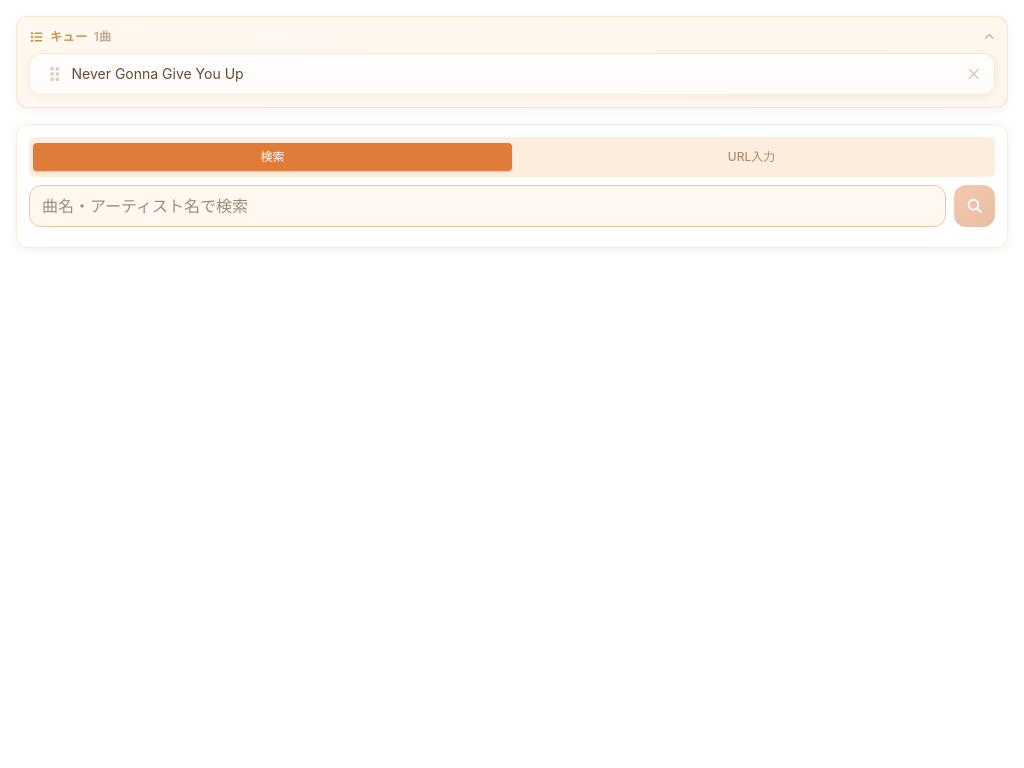
it: MusicPanel › キュー表示 › 曲削除確認ダイアログはキャンセルできる
Click the button named "削除" at {"x": 973, "y": 74}, box [964, 64, 982, 84]
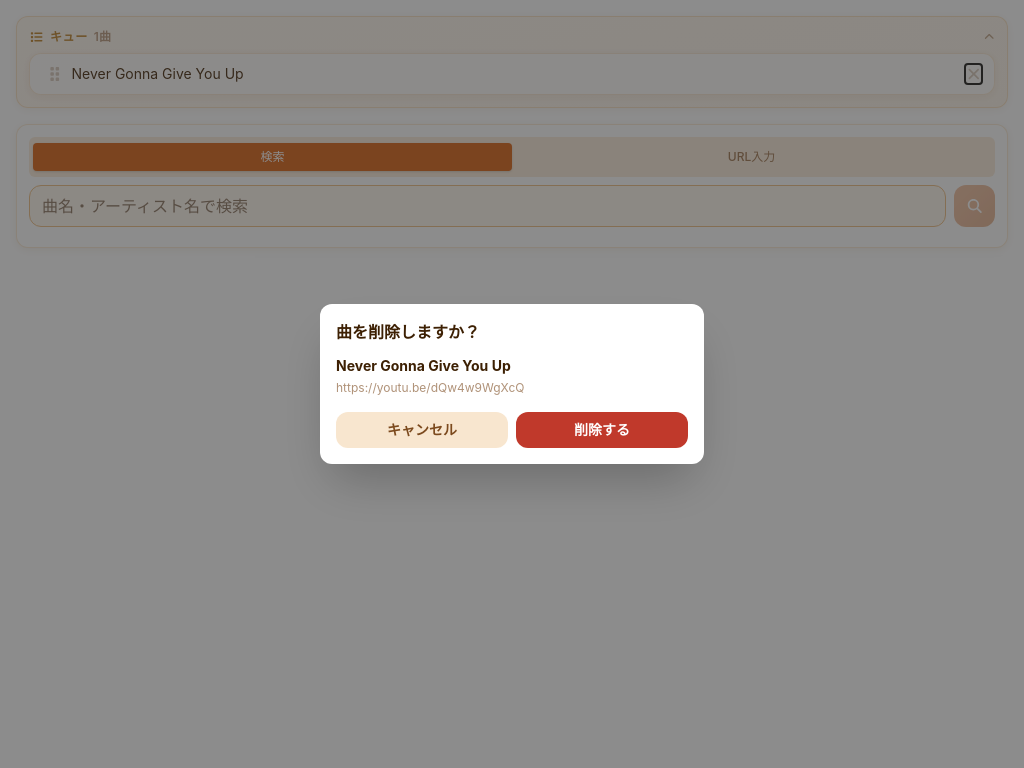
Click the button "キャンセル" at {"x": 422, "y": 430}, box [336, 412, 508, 448]
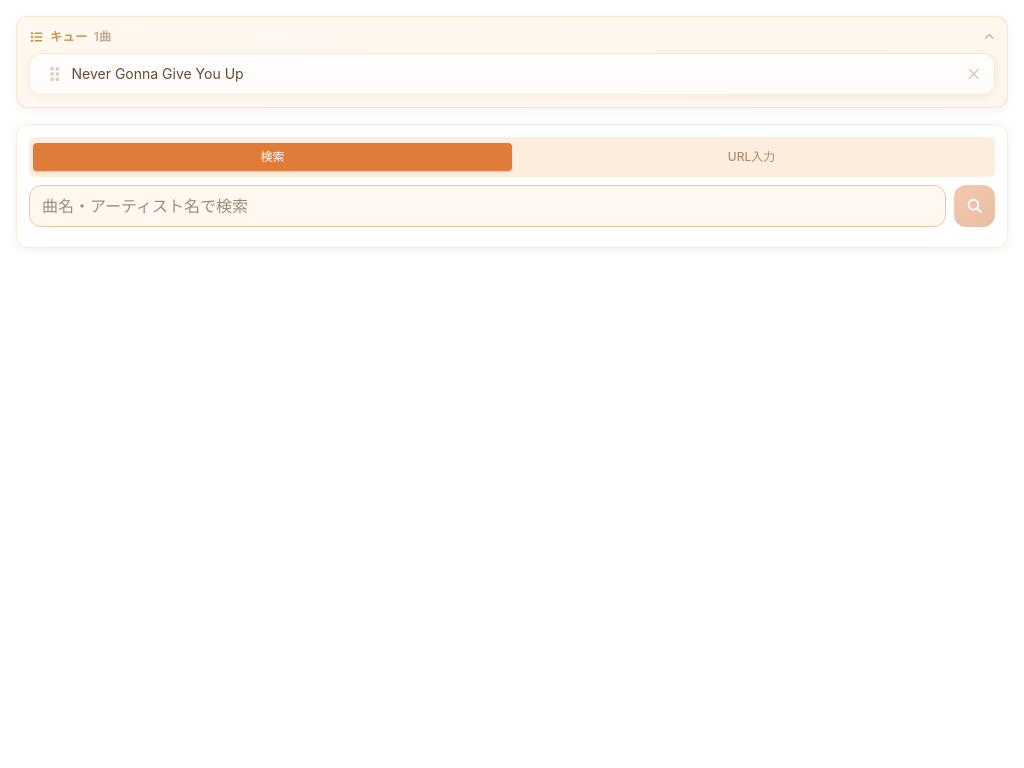
Expected: the heading "曲を削除しますか？" is gone
